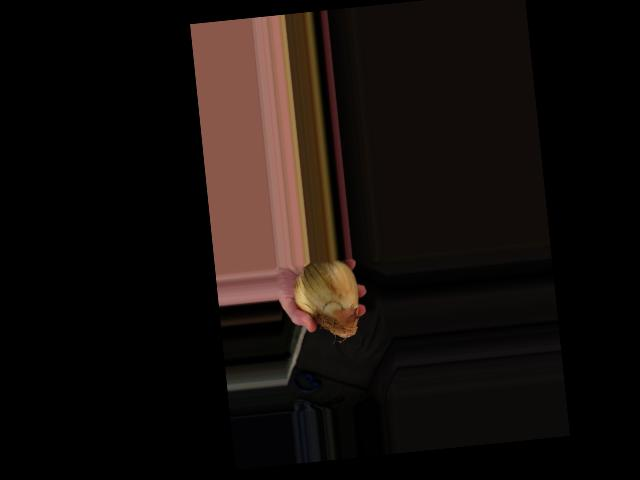onion: (292, 262, 363, 344)
